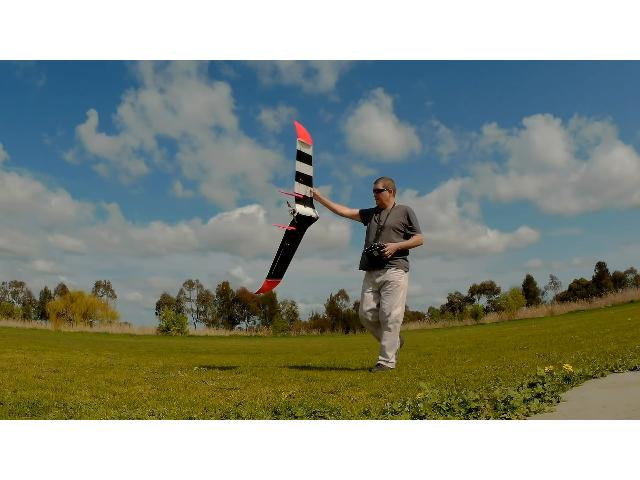Anti-Drone: (252, 106, 340, 306)
